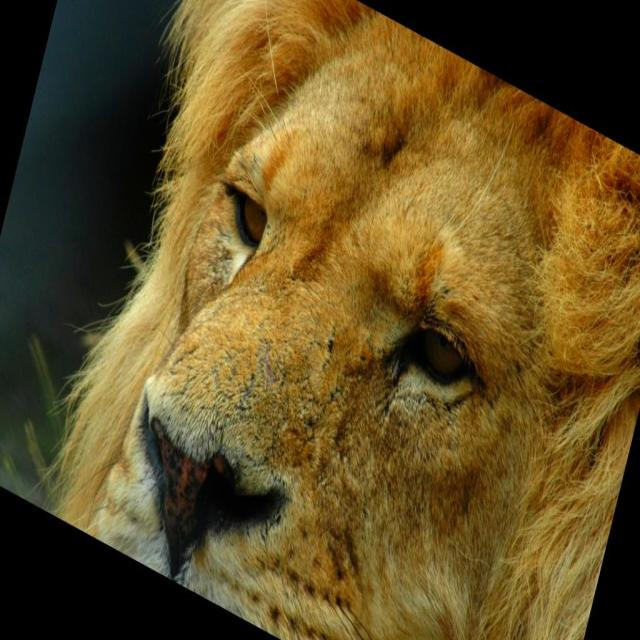Lion: (22, 0, 639, 639)
